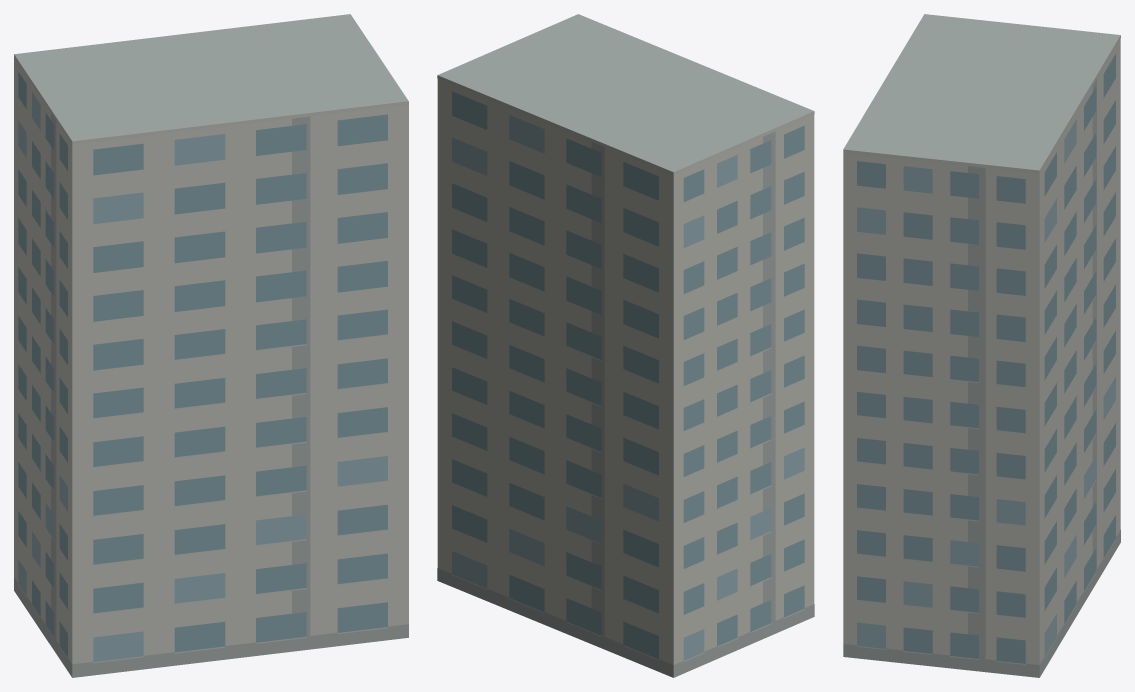
Rendered from residential-6c6b2ed0-4cca-42fa-8942-62807a0824e2.glb.
3 renders of one model, left to right at view 1: azimuth 30°, elevation 25°; view 2: azimuth 150°, elevation 25°; view 3: azimuth 270°, elevation 25°, orthographic. The views are drawn at different scales.
Parts seen in each view (by area): view 1: residential-6c6b2ed0-4cca-42fa-8942-62807a0824e2.tmp; view 2: residential-6c6b2ed0-4cca-42fa-8942-62807a0824e2.tmp; view 3: residential-6c6b2ed0-4cca-42fa-8942-62807a0824e2.tmp.
Boxes of the visible parts, x1,y1,x2,y2 form: residential-6c6b2ed0-4cca-42fa-8942-62807a0824e2.tmp: [14, 14, 408, 677]; residential-6c6b2ed0-4cca-42fa-8942-62807a0824e2.tmp: [437, 14, 814, 677]; residential-6c6b2ed0-4cca-42fa-8942-62807a0824e2.tmp: [843, 14, 1120, 677].
Bounding box in the file's own units: 24.48 × 37 × 18.36.
